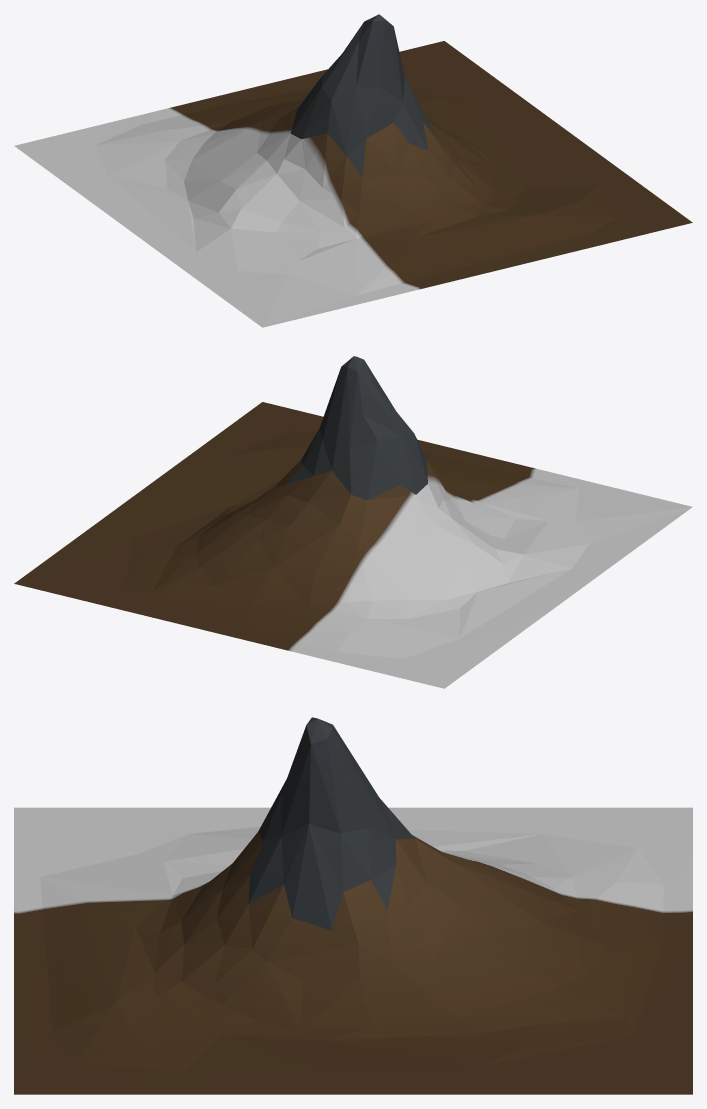
Rendered from Terrain_05.fbx.
The picture shows the model from 3 angles, top to bottom: view 1: azimuth 30°, elevation 25°; view 2: azimuth 150°, elevation 25°; view 3: azimuth 270°, elevation 25°; orthographic projection. The views are drawn at different scales.
Visible parts, largest first — view 1: Terrain_05; view 2: Terrain_05; view 3: Terrain_05.
Boxes of the visible parts, left/top/right/bottom form: Terrain_05: left=14, top=14, right=692, bottom=327; Terrain_05: left=14, top=356, right=692, bottom=688; Terrain_05: left=14, top=717, right=692, bottom=1094.
Size of the model in its own units: 128 by 50.48 by 128.
